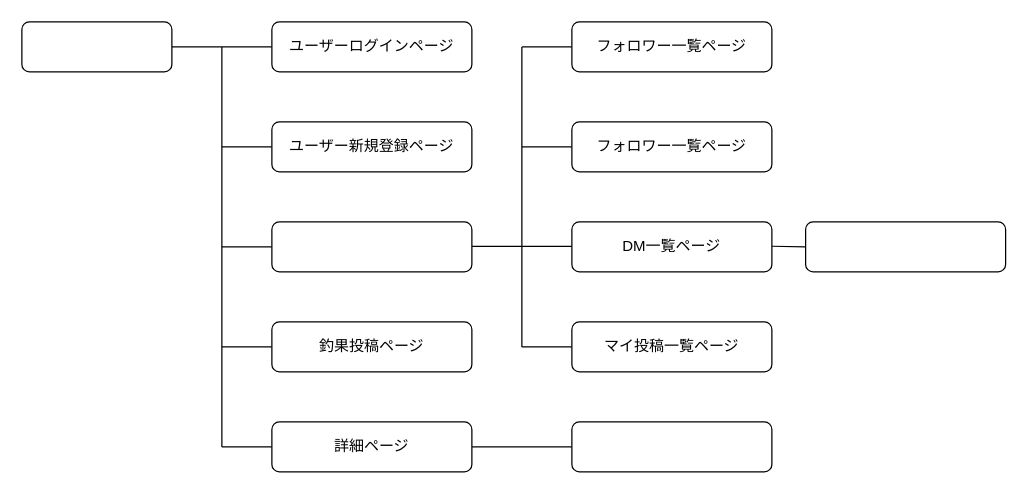
This 1028x494 diagram has some shape labels left out. Each missing label, with the centre of its shape:
"DMページ" goes at pixel 905 246.
"ユーザーマイページ" goes at pixel 371 246.
"一覧ページ" goes at pixel 96 46.
"編集ページ" goes at pixel 671 446.
